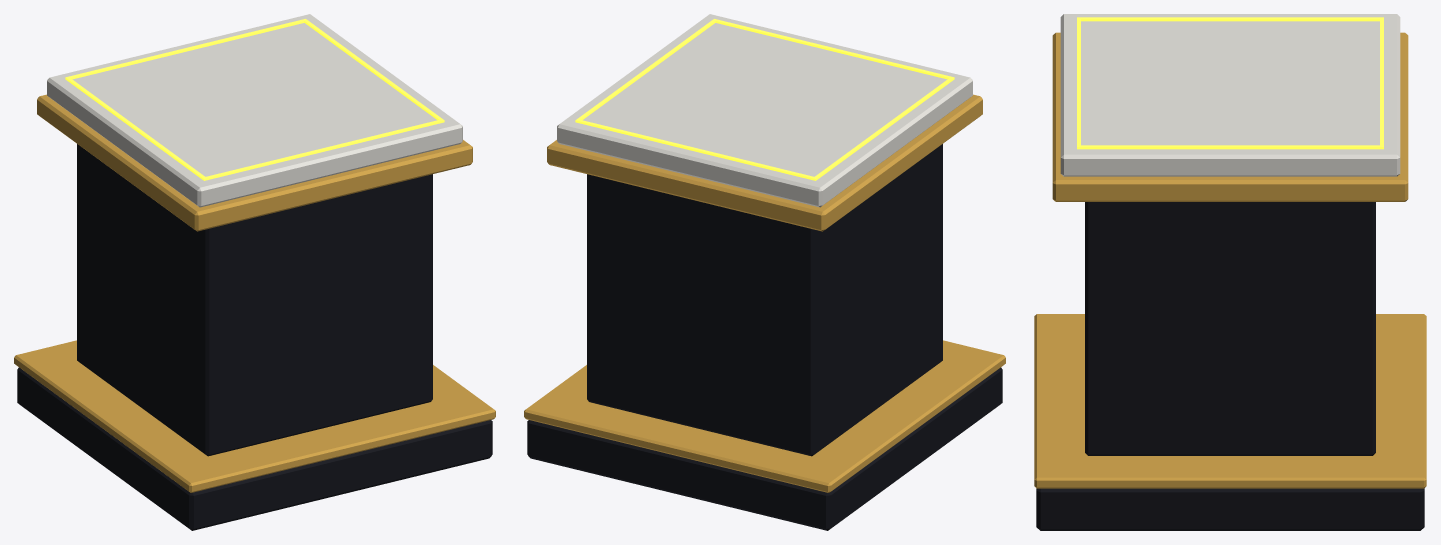
Rendered from vault_pedestal.glb.
3 views of the same model, side by side, from view 1: azimuth 30°, elevation 25°; view 2: azimuth 150°, elevation 25°; view 3: azimuth 270°, elevation 25° (orthographic). The views are drawn at different scales.
Parts seen in each view (by area): view 1: vault_pedestal; view 2: vault_pedestal; view 3: vault_pedestal.
Part boxes in pixels (x1,y1,x2,y2): vault_pedestal: (14, 14, 495, 530); vault_pedestal: (524, 14, 1005, 530); vault_pedestal: (1034, 14, 1426, 530).
Bounding box in the file's own units: 0.97 × 1.01 × 0.97.
